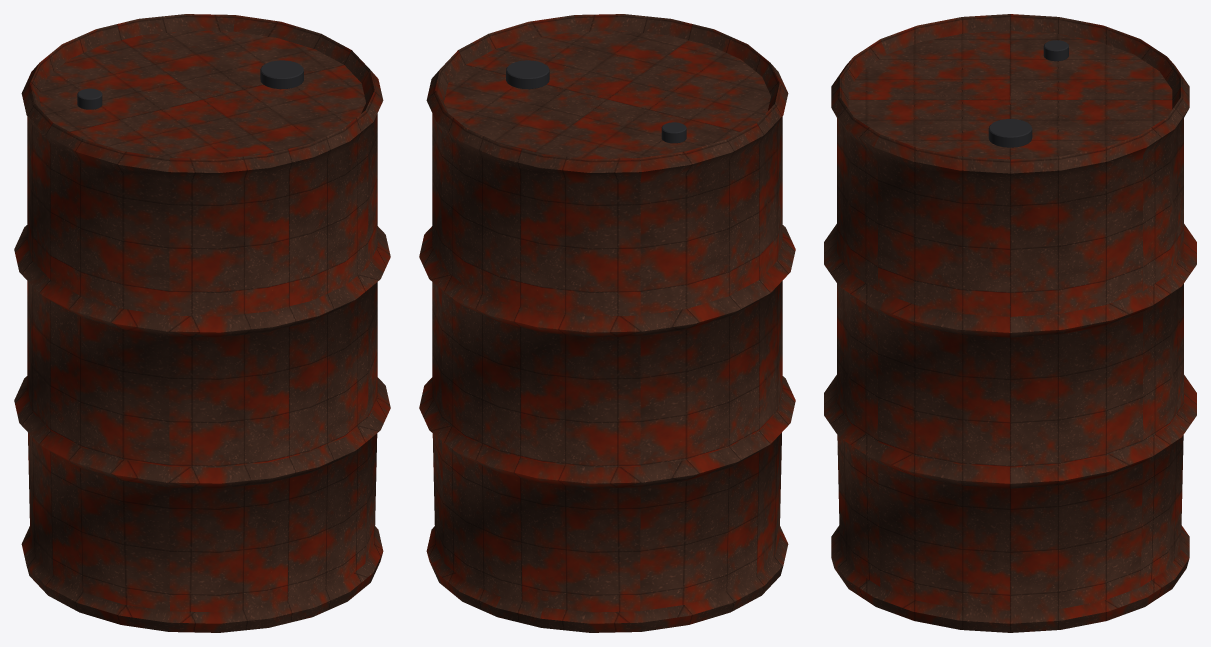
Rendered from barrel_rusted.glb.
3 renders of one model, left to right at view 1: azimuth 30°, elevation 25°; view 2: azimuth 150°, elevation 25°; view 3: azimuth 270°, elevation 25°, orthographic.
Parts seen in each view (by area): view 1: BarrelRusted; view 2: BarrelRusted; view 3: BarrelRusted.
Part boxes in pixels (<box>): BarrelRusted: <box>14,14,390,632</box>; BarrelRusted: <box>419,14,795,632</box>; BarrelRusted: <box>824,14,1196,632</box>.
Size of the model in its own units: 0.656 by 0.905 by 0.6493.
Materials: 2 (1 with a texture image).
